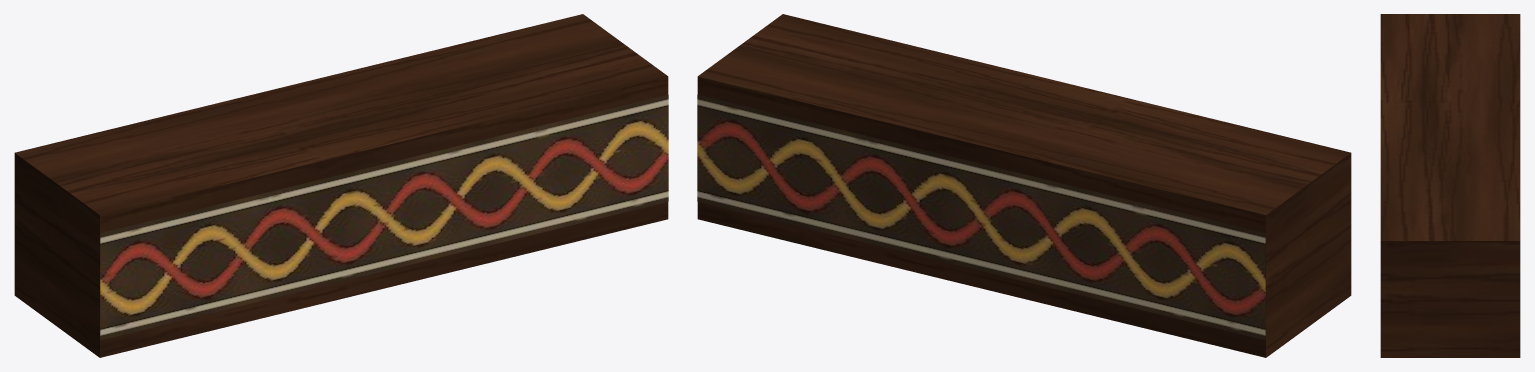
Rendered from interior_beam.glb.
3 views of the same model, side by side, from view 1: azimuth 30°, elevation 25°; view 2: azimuth 150°, elevation 25°; view 3: azimuth 270°, elevation 25° (orthographic). The views are drawn at different scales.
Visible parts, largest first — view 1: interior_beam; view 2: interior_beam; view 3: interior_beam.
Boxes of the visible parts, x1,y1,x2,y2 form: interior_beam: (14, 14, 668, 357); interior_beam: (697, 14, 1351, 357); interior_beam: (1380, 14, 1520, 357).
Size of the model in its own units: 1 by 0.24 by 0.262.
Materials: 2 (2 with a texture image).
